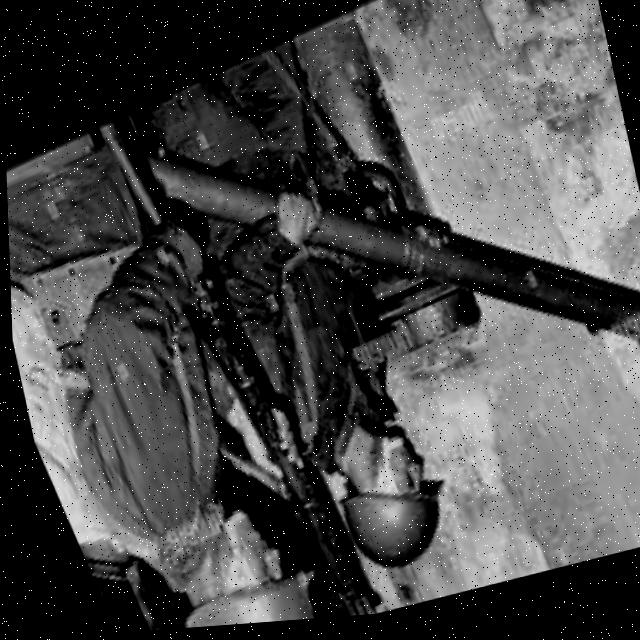rocket: (109, 0, 640, 553)
